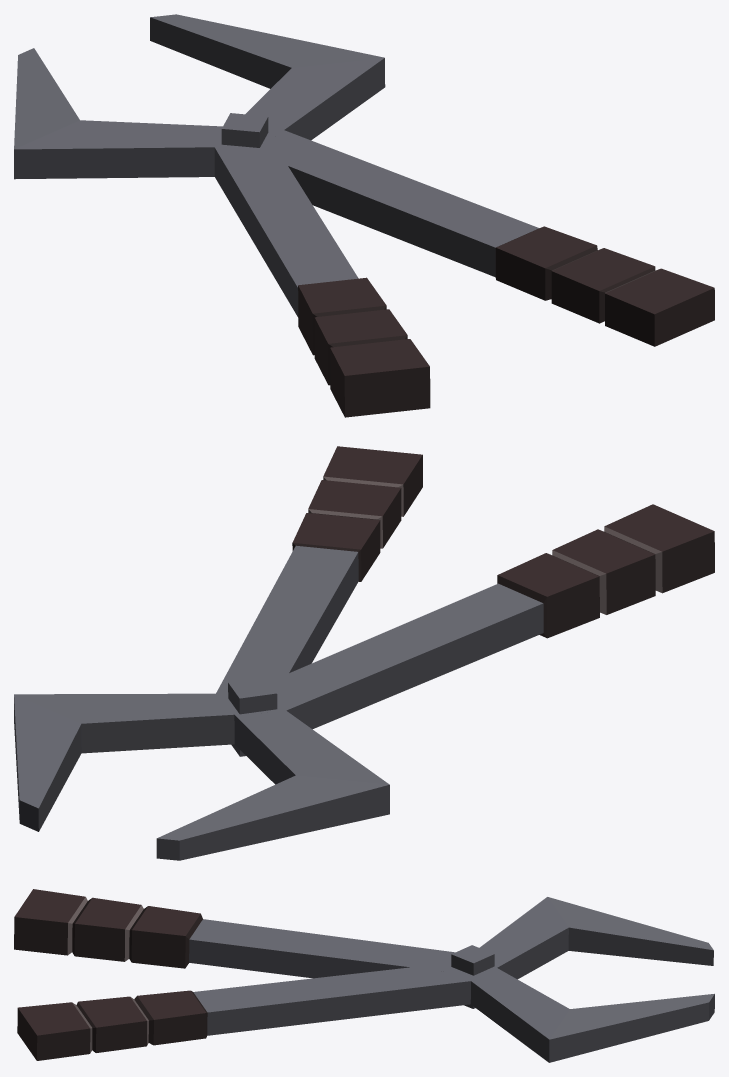
Rendered from Tweezers_01.glb.
The picture shows the model from 3 angles, top to bottom: view 1: azimuth 30°, elevation 25°; view 2: azimuth 150°, elevation 25°; view 3: azimuth 270°, elevation 25°; orthographic projection. The views are drawn at different scales.
Visible parts, largest first — view 1: Tweezers_01; view 2: Tweezers_01; view 3: Tweezers_01.
Part boxes in pixels (x1=…): Tweezers_01: x1=14, y1=14, x2=714, y2=417; Tweezers_01: x1=14, y1=446, x2=714, y2=860; Tweezers_01: x1=14, y1=889, x2=714, y2=1062.
Size of what is drawn, in the model's own units: 0.2149 by 0.032 by 0.4405.
Materials: 1 (1 with a texture image).
